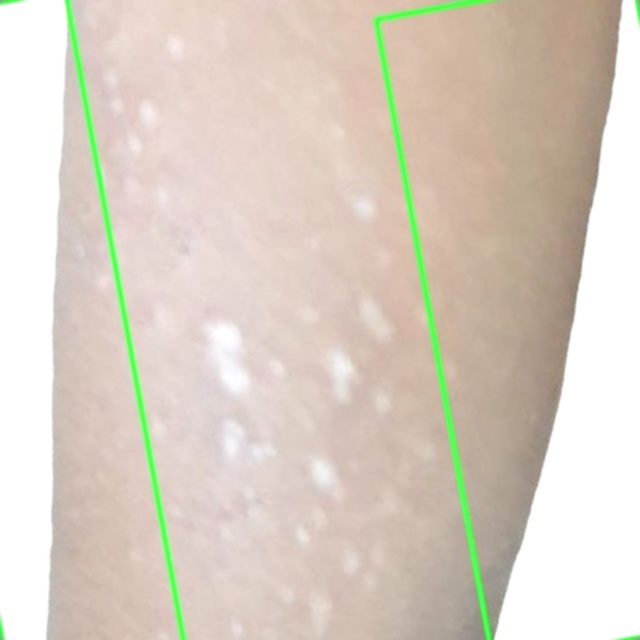Scabies: (375, 0, 639, 639), (0, 0, 183, 639)
